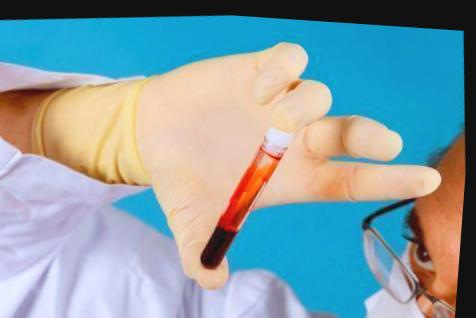Fire: (203, 146, 282, 266)
